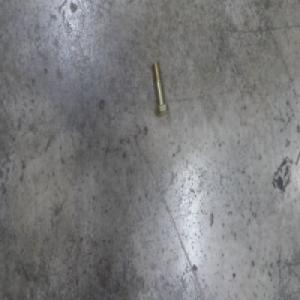Bolt: (152, 60, 169, 117)
